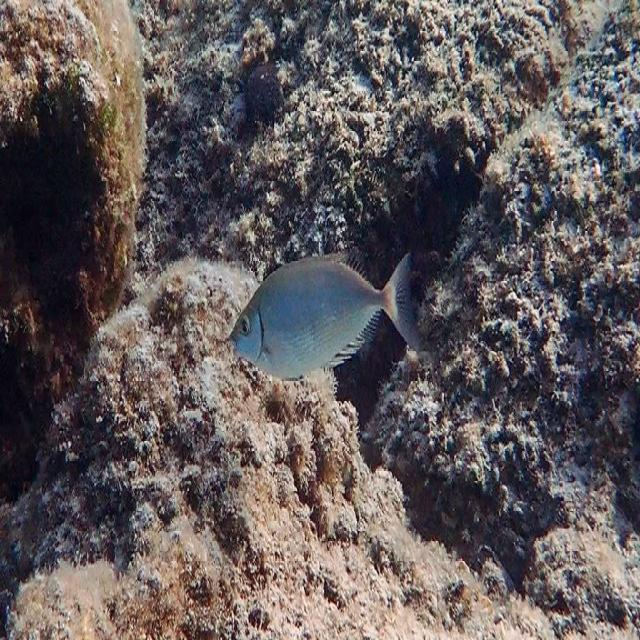Sokar Baligi: (226, 240, 425, 384)
